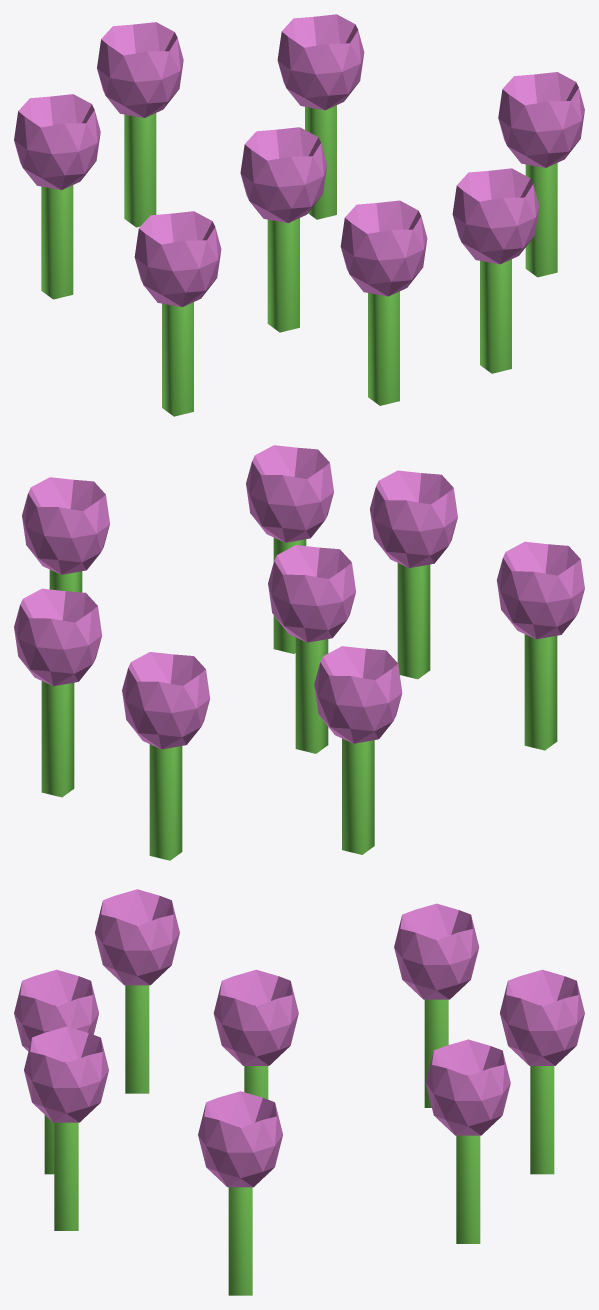
The model's file is flowerfield.glb.
The picture shows the model from 3 angles, top to bottom: view 1: azimuth 30°, elevation 25°; view 2: azimuth 150°, elevation 25°; view 3: azimuth 270°, elevation 25°; orthographic projection. The views are drawn at different scales.
Visible parts, largest first — view 1: Icosphere6, Icosphere7, Icosphere3, Icosphere, Icosphere2, Icosphere8, Icosphere5, Icosphere4, Cube3, Cube8, Cube4, Cube7 (+4 smaller); view 2: Icosphere3, Icosphere4, Icosphere5, Icosphere8, Icosphere, Icosphere2, Icosphere6, Icosphere7, Cube4, Cube5, Cube6, Cube7 (+4 smaller); view 3: Icosphere, Icosphere5, Icosphere6, Icosphere2, Icosphere8, Icosphere4, Icosphere3, Icosphere7, Cube, Cube2, Cube6, Cube4 (+4 smaller).
Boxes of the visible parts, x1,y1,x2,y2 form: Icosphere6: [134, 211, 221, 307]; Icosphere7: [340, 200, 427, 296]; Icosphere3: [14, 94, 100, 189]; Icosphere: [498, 72, 584, 167]; Icosphere2: [452, 168, 539, 264]; Icosphere8: [240, 127, 327, 222]; Icosphere5: [277, 14, 364, 110]; Icosphere4: [97, 22, 183, 117]; Cube3: [41, 185, 73, 299]; Cube8: [267, 218, 299, 332]; Cube4: [124, 113, 156, 227]; Cube7: [368, 291, 399, 405]; Icosphere3: [314, 646, 402, 743]; Icosphere4: [122, 652, 210, 749]; Icosphere5: [14, 588, 102, 686]; Icosphere8: [268, 545, 355, 642]; Icosphere: [22, 477, 109, 574]; Icosphere2: [246, 445, 333, 542]; Icosphere6: [496, 541, 584, 639]; Icosphere7: [370, 470, 457, 567]; Cube4: [149, 744, 182, 860]; Cube5: [41, 681, 74, 797]; Cube6: [524, 634, 557, 750]; Cube7: [397, 563, 430, 679]; Icosphere: [198, 1091, 282, 1187]; Icosphere5: [425, 1039, 510, 1135]; Icosphere6: [95, 889, 179, 985]; Icosphere2: [24, 1026, 108, 1122]; Icosphere8: [213, 969, 298, 1065]; Icosphere4: [500, 969, 584, 1065]; Icosphere3: [394, 903, 479, 999]; Icosphere7: [14, 969, 98, 1051]; Cube: [228, 1187, 252, 1295]; Cube2: [54, 1122, 78, 1230]; Cube6: [125, 985, 149, 1093]; Cube4: [530, 1066, 554, 1174].
Size of the model in its own units: 2.09 by 0.7535 by 2.12.
